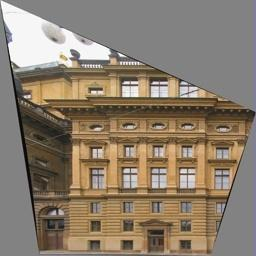building: (50, 48, 256, 256)
